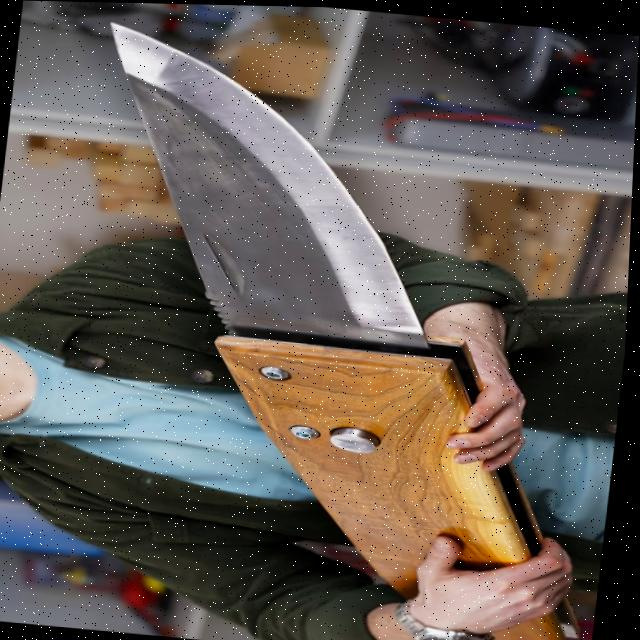knife: (38, 17, 639, 640)
